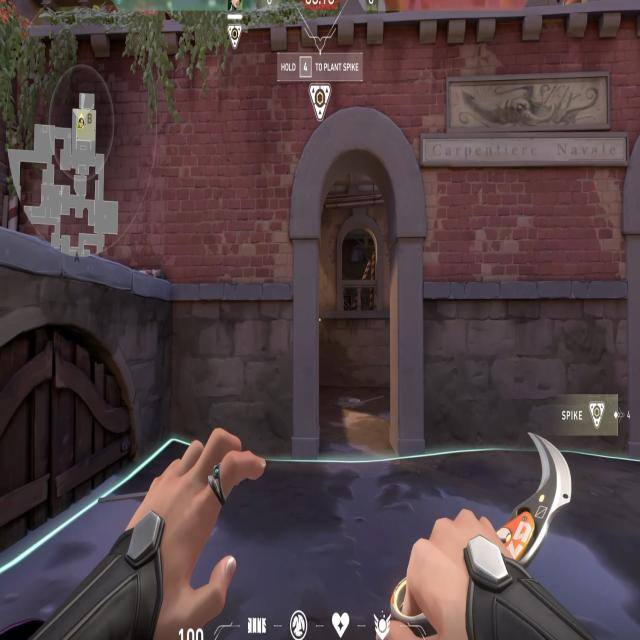B_Boathouse: (286, 105, 434, 462)
